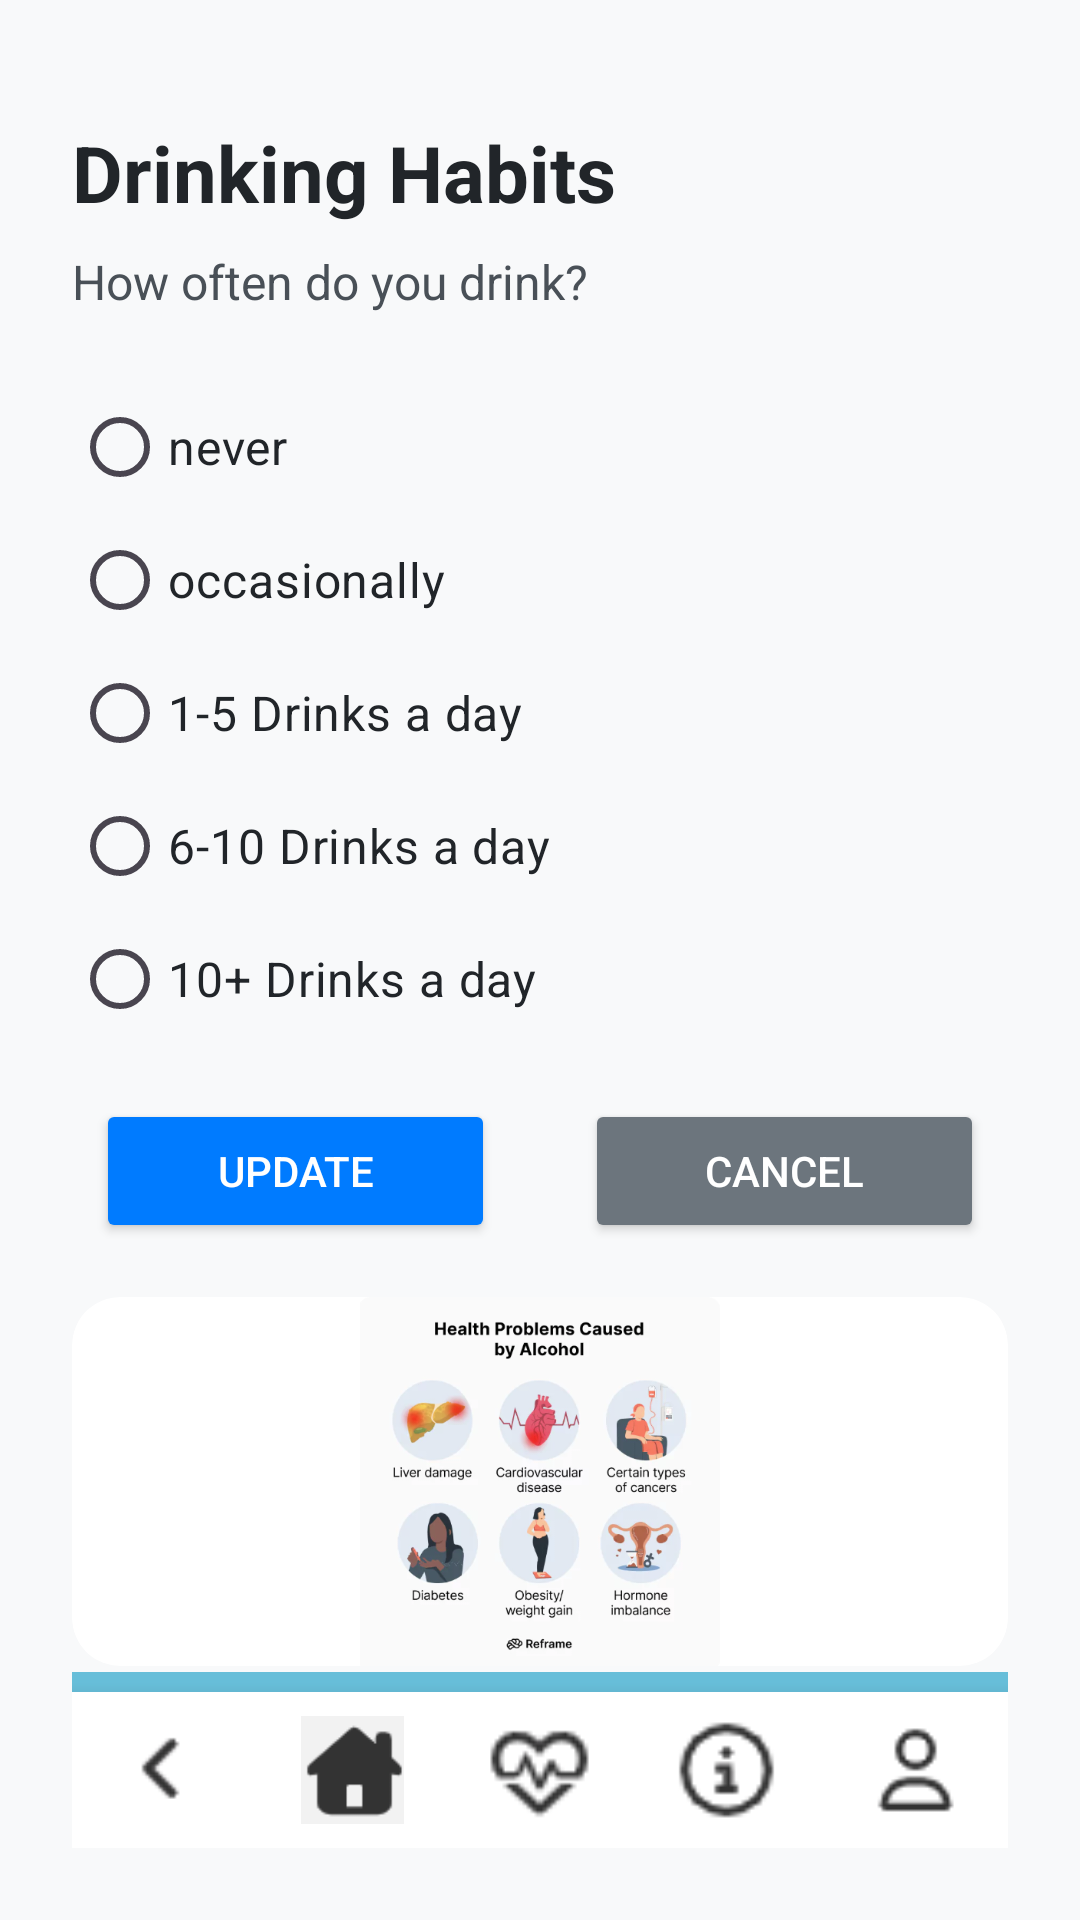

Locate icon controls on the screen. Image size 1080px×1920px, boxes as (x1, y1, x2, y2).
Back: (141, 1738, 179, 1799)
Home: (306, 1725, 402, 1817)
Info: (679, 1722, 774, 1818)
Profile: (878, 1728, 954, 1812)
